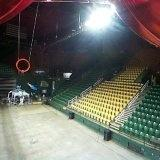Orange_Circle_GShape: (16, 57, 30, 72)
